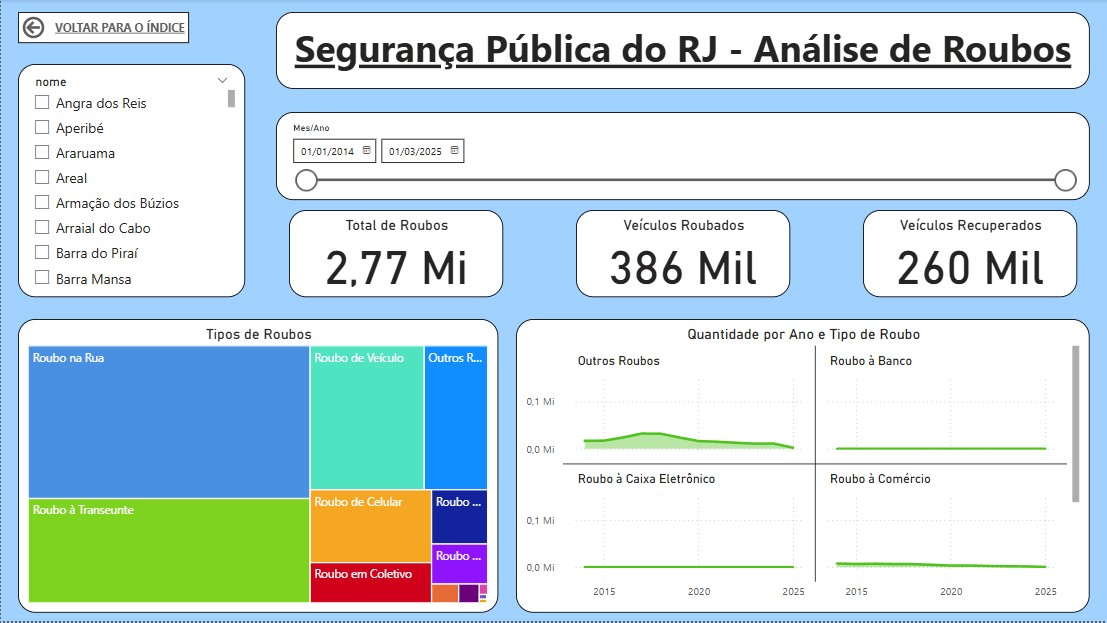

The dashboard page shown, as its layout file describes it:
{"tool":"powerbi","page":{"name":"Roubos","canvas":[1280,720],"ordinal":1},"visuals":[{"type":"stackedAreaChart","title":"Quantidade por Ano e Tipo de Roubo","fields":{"Category":["seguranca_rj_mensal.Mes/Ano.Variation.Hierarquia de datas.Ano","seguranca_rj_mensal.Mes/Ano.Variation.Hierarquia de datas.Mês"],"Y":["Sum(seguranca_rj_mensal.Quantidade)"],"Rows":["seguranca_rj_mensal.Tipo de Ocorrência"]},"box":[596.1,370.4,664.4,340.3],"z":0},{"type":"slicer","fields":{"Values":["MunicipiosRJ.nome"]},"box":[19.7,75.2,262.8,269.7],"z":1000},{"type":"card","title":"Veículos Recuperados","fields":{"Values":["Medidas.TotalVeiculosRecuperados"]},"box":[997.8,244.2,247.7,100.7],"z":2000},{"type":"treemap","title":"Tipos de Roubos","fields":{"Values":["Sum(seguranca_rj_mensal.Quantidade)"],"Group":["seguranca_rj_mensal.Tipo de Ocorrência"]},"box":[19.7,370.4,555.6,340.3],"z":3000},{"type":"card","title":"Veículos Roubados","fields":{"Values":["Medidas.TotalVeiculosRoubados"]},"box":[665.6,244.2,247.7,100.7],"z":4000},{"type":"slicer","fields":{"Values":["seguranca_rj_mensal.Mes/Ano"]},"box":[318.3,130.8,942.3,101.9],"z":5000},{"type":"card","title":"Total de Roubos","fields":{"Values":["Medidas.TotalRoubos"]},"box":[333.4,244.2,247.7,100.7],"z":6000},{"type":"textbox","box":[318.3,15,942.3,89.1],"z":7000},{"type":"actionButton","title":"VOLTAR","box":[19.7,15,197.9,35.9],"z":8000}]}

Visuals, with their boxes in screenshot pixels (x1, y1, x2, y2), scaled from the page's 1280x720 canvas onto the 1107x623 screenshot:
"Quantidade por Ano e Tipo de Roubo" stackedAreaChart: box=[516, 320, 1090, 615]
slicer - MunicipiosRJ.nome: box=[17, 65, 244, 298]
"Veículos Recuperados" card: box=[863, 211, 1077, 298]
"Tipos de Roubos" treemap: box=[17, 320, 498, 615]
"Veículos Roubados" card: box=[576, 211, 790, 298]
slicer - seguranca_rj_mensal.Mes/Ano: box=[275, 113, 1090, 201]
"Total de Roubos" card: box=[288, 211, 503, 298]
textbox: box=[275, 13, 1090, 90]
"VOLTAR" actionButton: box=[17, 13, 188, 44]
